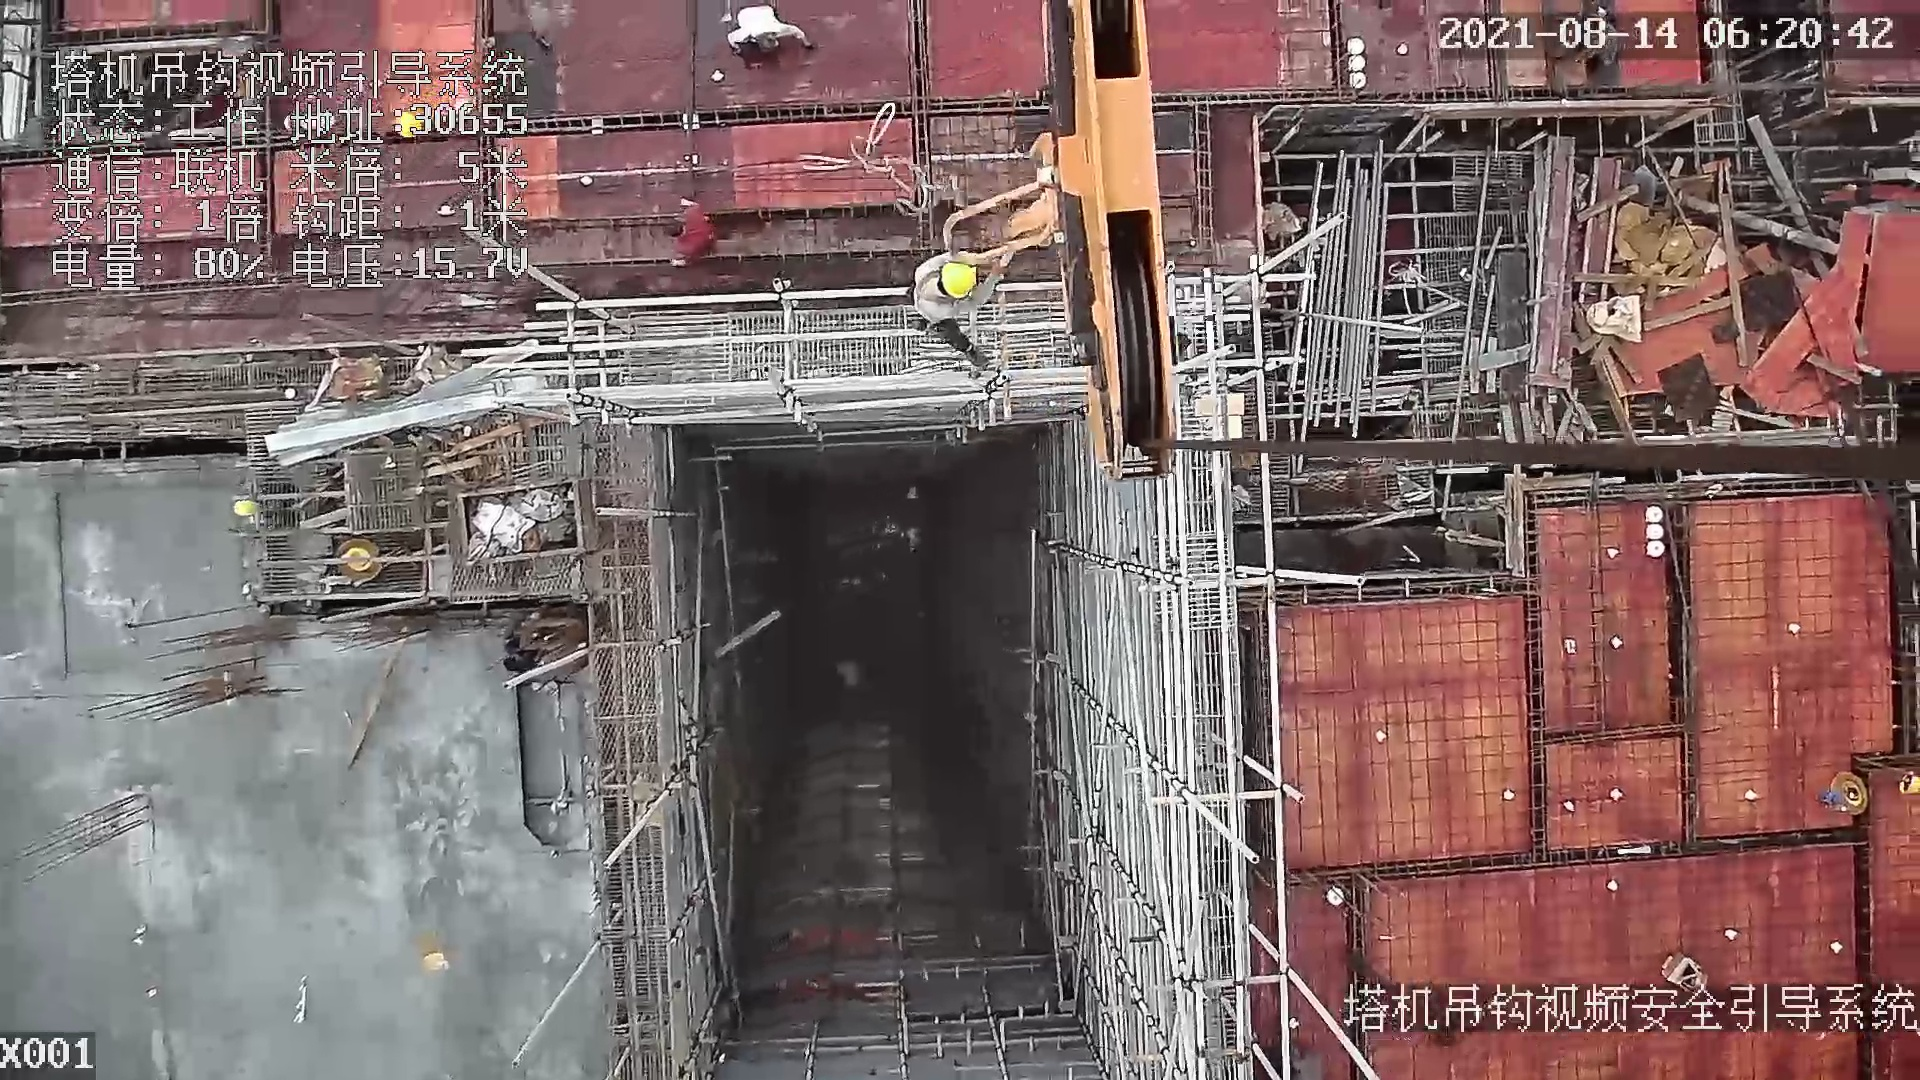helmet: (937, 261, 982, 297)
hook: (932, 4, 1191, 477)
person: (906, 245, 1013, 381), (682, 1, 819, 63)
